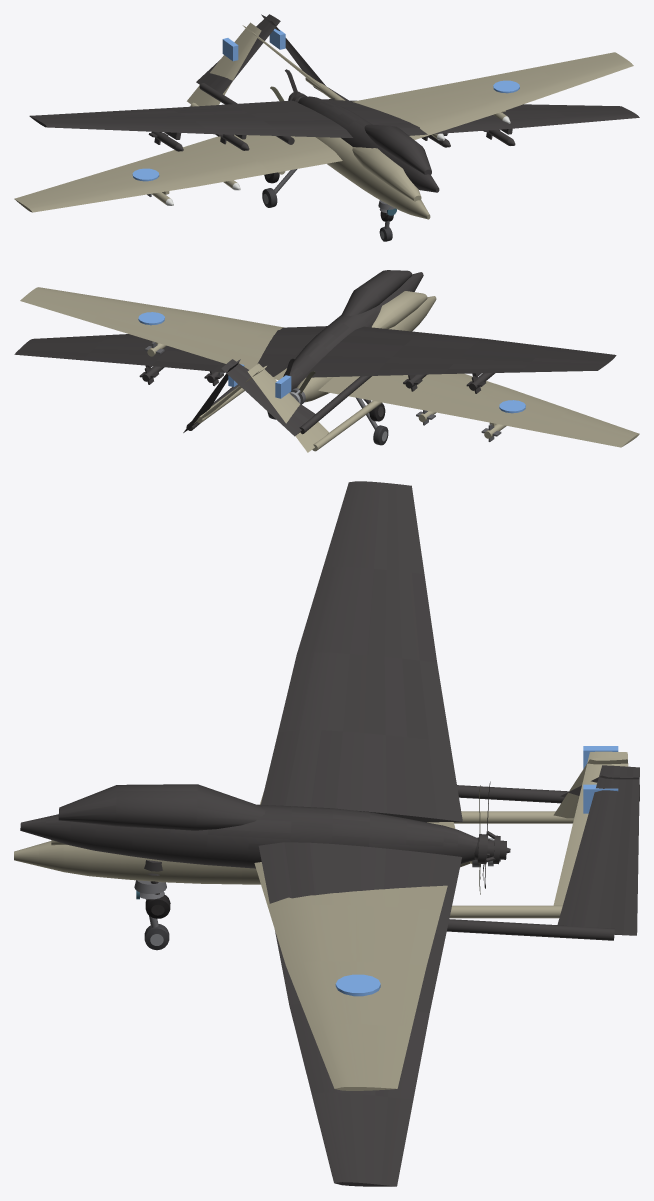
Rendered from drone__bayraktar_tb2_domestic.glb.
3 renders of one model, top to bottom at view 1: azimuth 30°, elevation 25°; view 2: azimuth 150°, elevation 25°; view 3: azimuth 270°, elevation 25°, orthographic. The views are drawn at different scales.
Visible parts, largest first — view 1: Fuselage_Mesh, Wreck; view 2: Wreck, Fuselage_Mesh, Propeller_Mesh; view 3: Wreck, Fuselage_Mesh.
Boxes of the visible parts, x1,y1,x2,y2 form: Fuselage_Mesh: (14, 22, 633, 241); Wreck: (29, 14, 639, 221); Wreck: (14, 270, 616, 436); Fuselage_Mesh: (20, 287, 639, 452); Propeller_Mesh: (289, 371, 315, 404); Wreck: (20, 481, 639, 1186); Fuselage_Mesh: (14, 746, 628, 1090).
Size of what is drawn, in the model's own units: 12.12 by 2.69 by 6.45.
